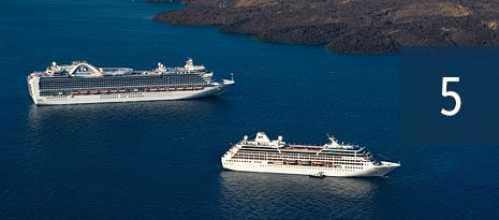youlun: (27, 52, 242, 108), (221, 134, 410, 179)
